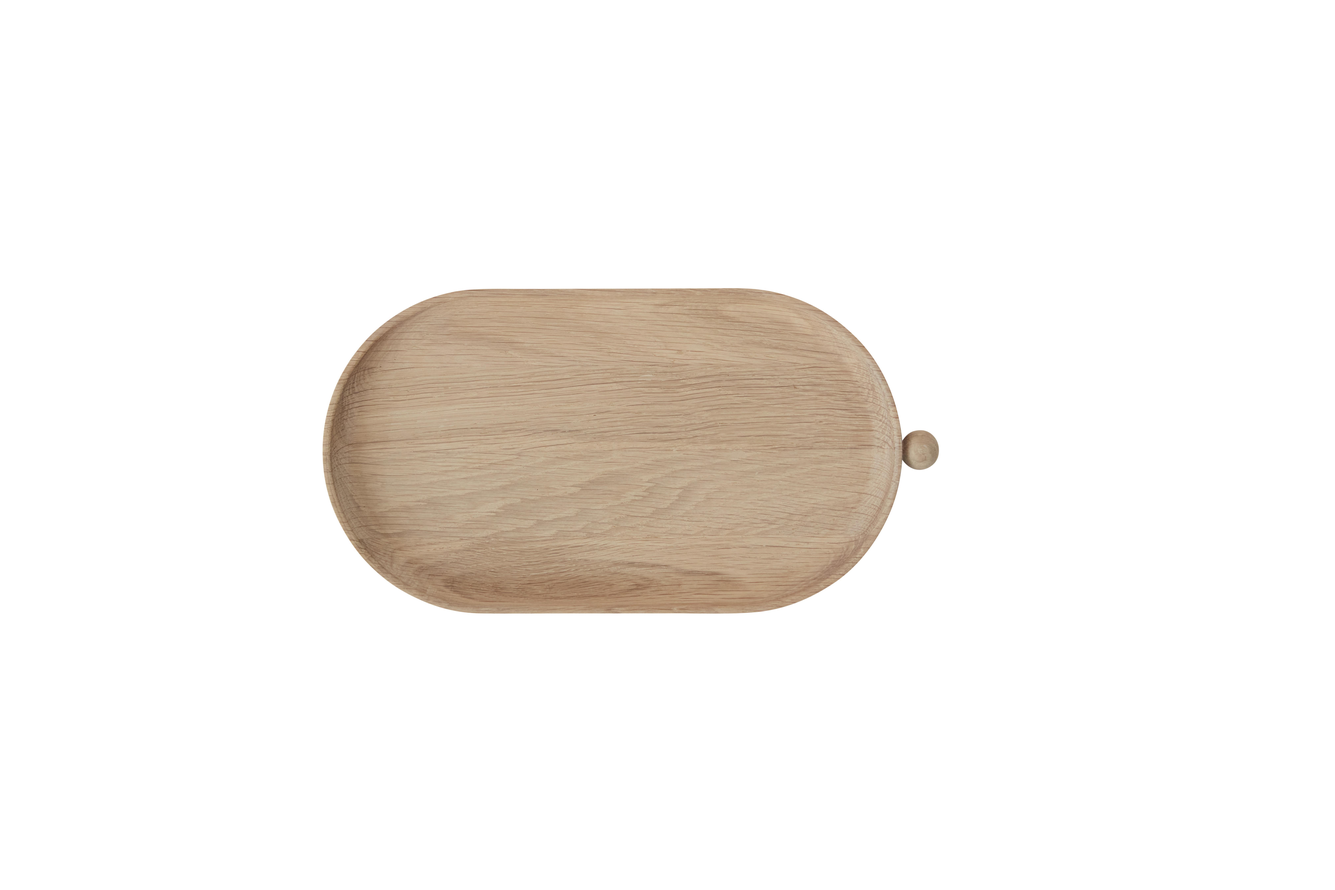gloved_hand: (314, 276, 949, 626)
